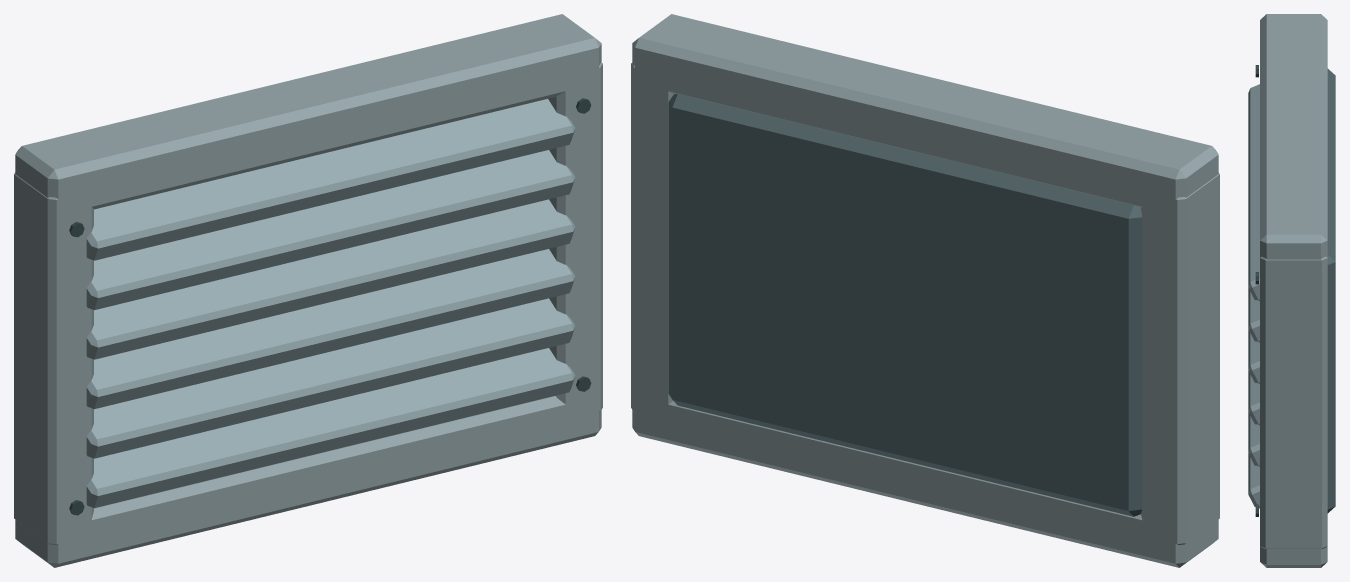
File: Systems-VentUnit.fbx
The picture shows the model from 3 angles, left to right: view 1: azimuth 30°, elevation 25°; view 2: azimuth 150°, elevation 25°; view 3: azimuth 270°, elevation 25°; orthographic projection. The views are drawn at different scales.
Parts seen in each view (by area): view 1: Cross Frame.001, Cross Frame, Side Frame, Angled Louver.005, Angled Louver.002, Angled Louver.001, Angled Louver.004, Angled Louver, Angled Louver.003, Side Frame.001; view 2: Recess Shadow, Cross Frame.001, Side Frame, Cross Frame, Side Frame.001; view 3: Side Frame.001, Cross Frame.001, Recess Shadow, Angled Louver.005, Cross Frame, Angled Louver.001, Angled Louver.004, Angled Louver.002, Angled Louver.003, Angled Louver.
Part boxes in pixels (x1,y1,x2,y2): Cross Frame.001: (15,14,601,214); Cross Frame: (15,395,601,567); Side Frame: (14,172,93,544); Angled Louver.005: (86,99,575,260); Angled Louver.002: (86,249,575,409); Angled Louver.001: (86,298,575,458); Angled Louver.004: (86,150,575,310); Angled Louver: (86,348,575,508); Angled Louver.003: (86,199,575,359); Side Frame.001: (548,62,602,412); Recess Shadow: (668,94,1142,516); Cross Frame.001: (632,14,1218,214); Side Frame: (1141,172,1219,544); Cross Frame: (632,397,1218,567); Side Frame.001: (631,62,673,419); Side Frame.001: (1260,256,1327,548); Cross Frame.001: (1260,14,1327,259); Recess Shadow: (1327,68,1335,513); Angled Louver.005: (1248,84,1259,301); Cross Frame: (1260,546,1327,567); Angled Louver.001: (1248,412,1259,466); Angled Louver.004: (1248,288,1259,342); Angled Louver.002: (1248,371,1259,425); Angled Louver.003: (1248,329,1259,384); Angled Louver: (1248,454,1259,508).
Bounding box in the file's own units: 0.493 × 0.338 × 0.0804.
